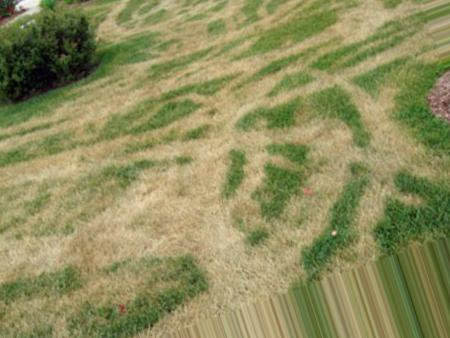patch: (251, 89, 329, 283), (330, 21, 414, 193), (100, 185, 232, 251), (122, 19, 245, 74), (26, 114, 139, 159), (183, 115, 226, 177)
